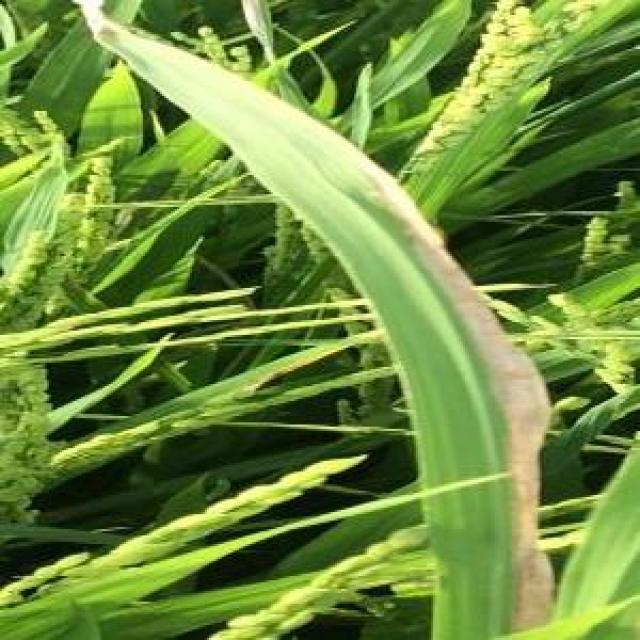Bacterial_Blight: (83, 0, 560, 640)
